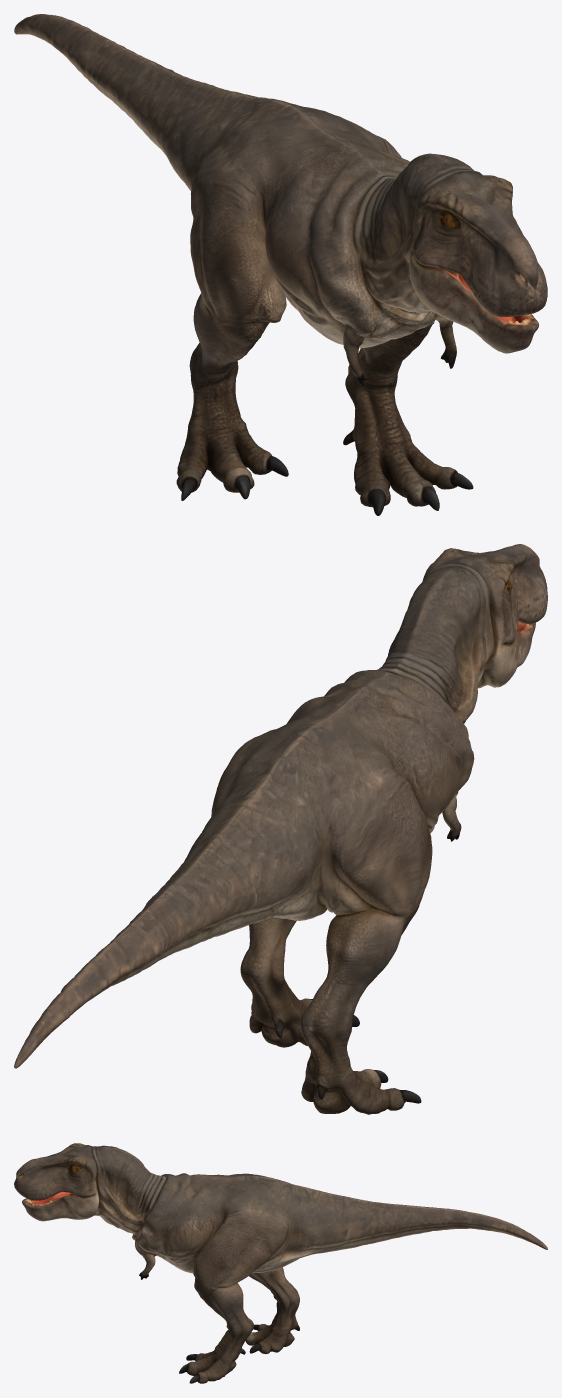
Rendered from tyrannosaur.glb.
3 views of the same model, one above another, from view 1: azimuth 30°, elevation 25°; view 2: azimuth 150°, elevation 25°; view 3: azimuth 270°, elevation 25° (orthographic). The views are drawn at different scales.
Visible parts, largest first — view 1: model; view 2: model; view 3: model.
Boxes of the visible parts, x1=… form: model: x1=14, y1=14, x2=547, y2=515; model: x1=14, y1=544, x2=547, y2=1114; model: x1=14, y1=1143, x2=547, y2=1383.
Size of the model in its own units: 0.4702 by 0.825 by 1.89.
Materials: 1 (1 with a texture image).
